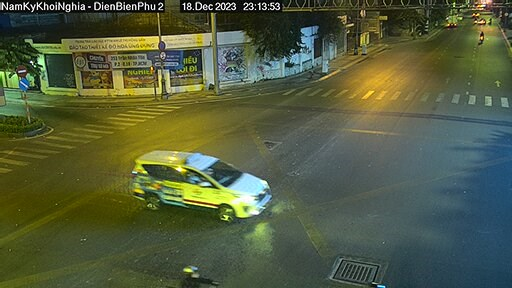car: (124, 140, 270, 223)
